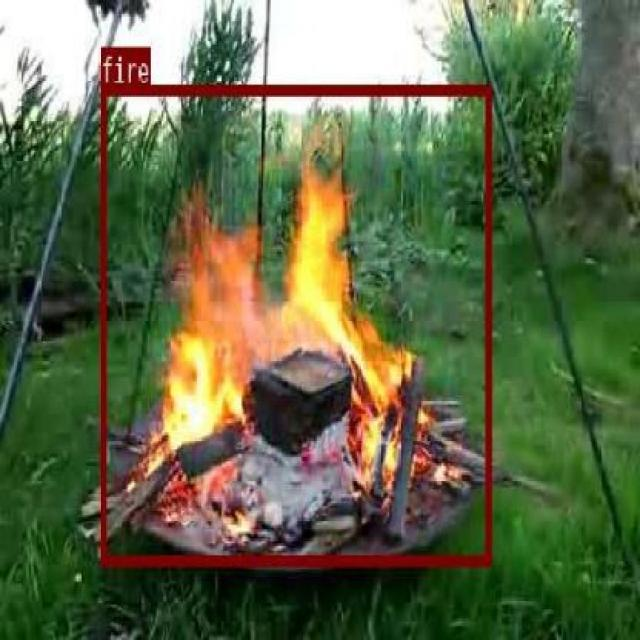fire: (98, 84, 490, 564)
